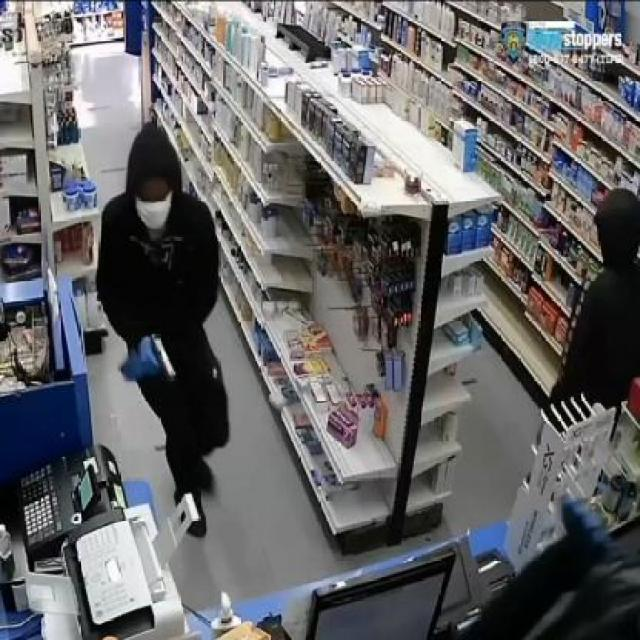weapon: (141, 332, 184, 388)
